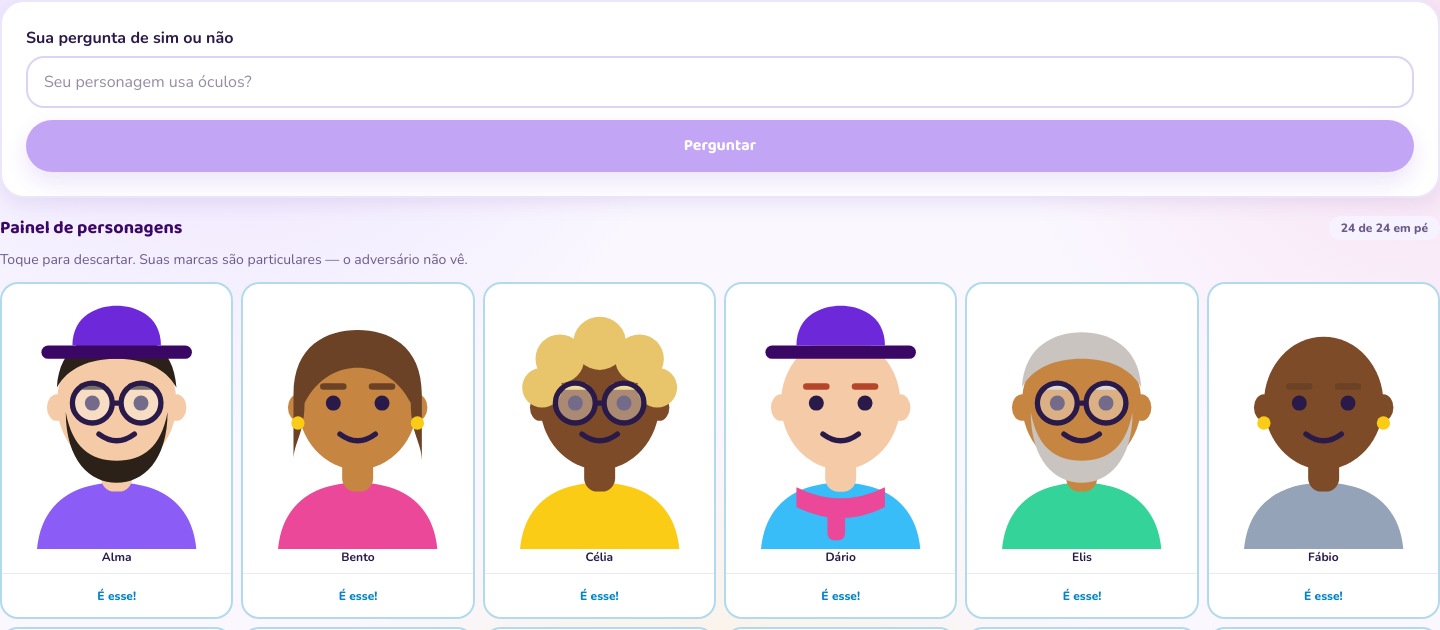
Cara a Cara › o palpite pede confirmação, avisando o risco
Click the 1st button "É esse!" at point(117, 595), box left=2, top=573, right=231, bottom=617
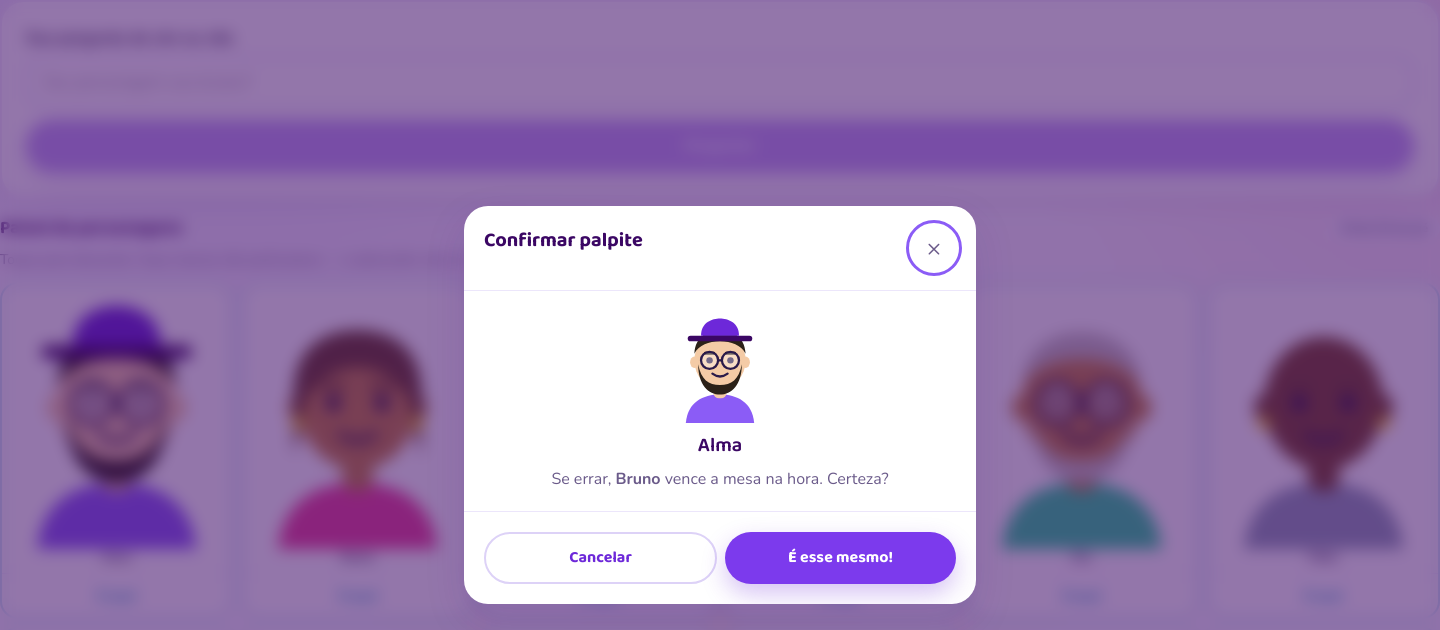
Now the text "Se errar, Bruno vence a mesa na hora. Certeza?" is shown, box left=551, top=468, right=889, bottom=490
